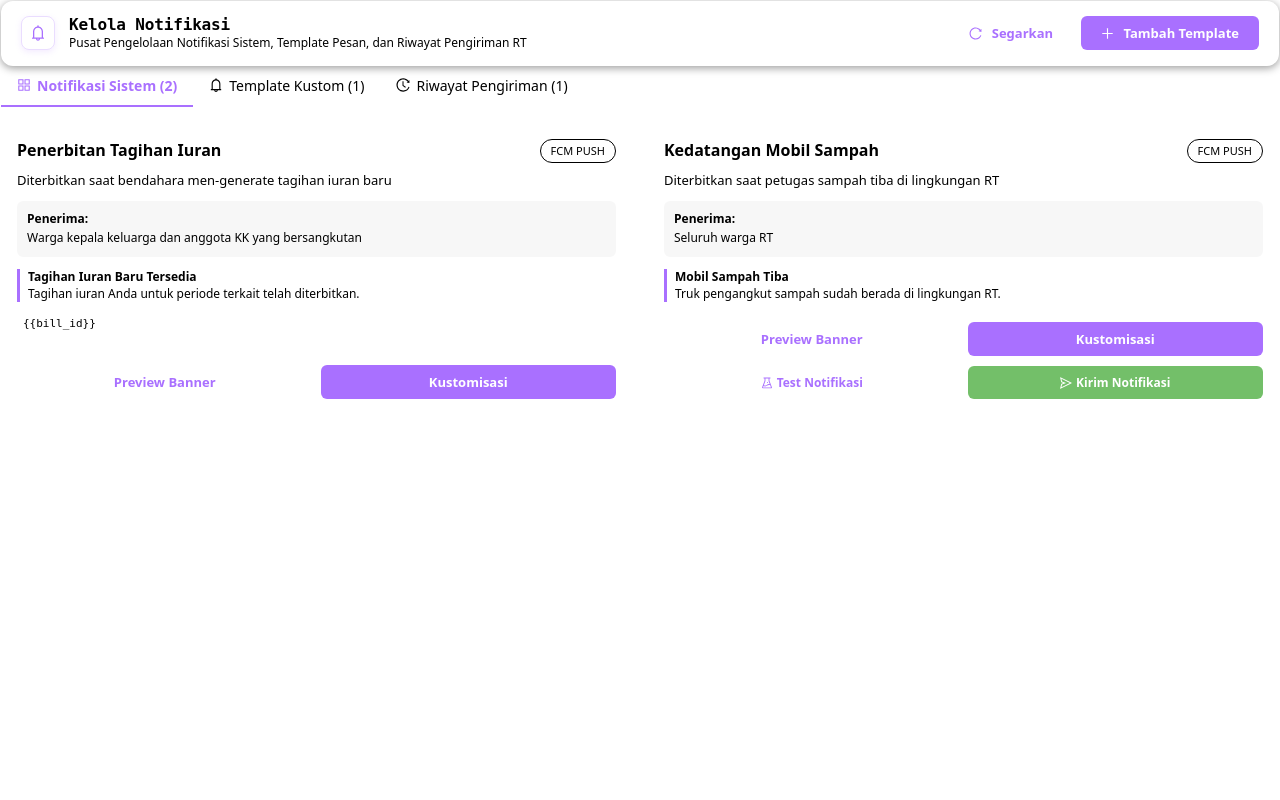
it: NotificationScreen › opens preview banner popup
Check: the text "Penerbitan Tagihan Iuran" is shown, box [17, 139, 221, 161]
Click the button "Preview Banner" below "{{bill_id}}" at (165, 382), box [17, 366, 312, 400]
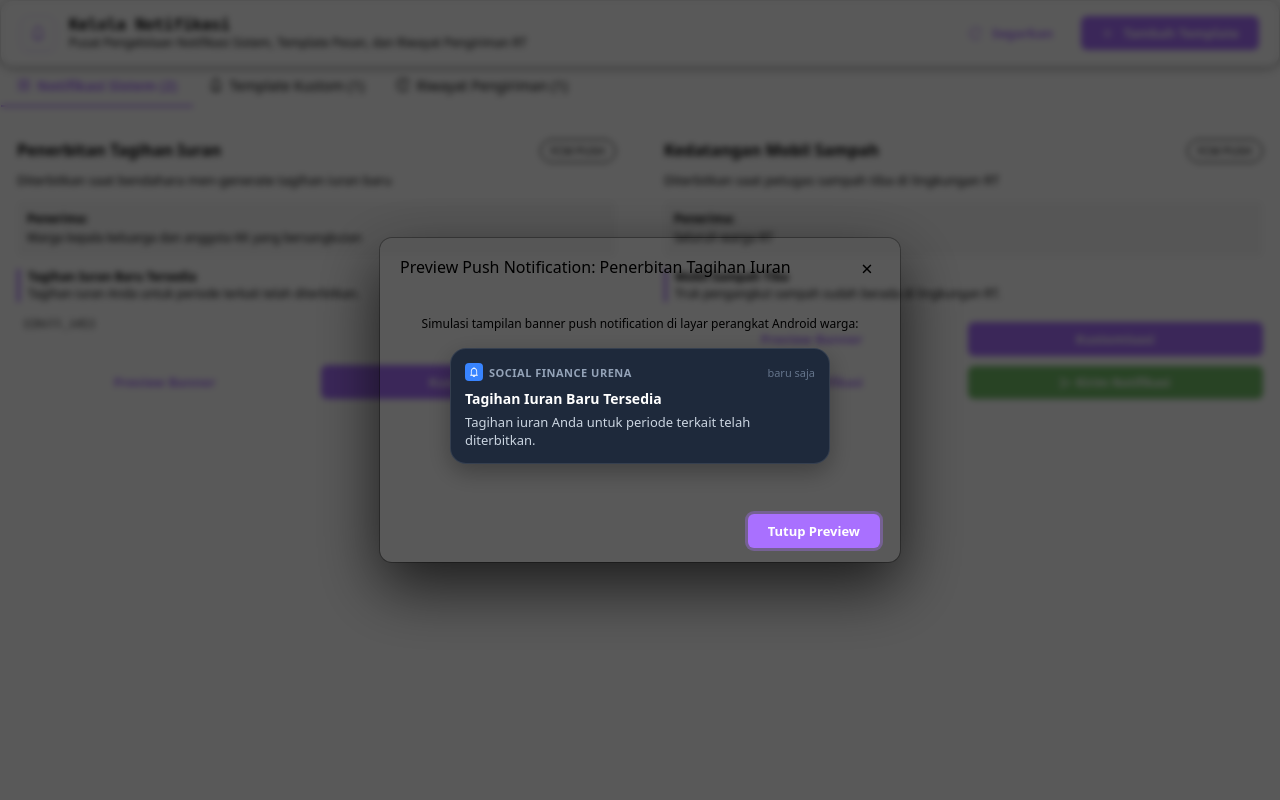
Check: the text "Tagihan Iuran Baru Tersedia" next to "Mobil Sampah Tiba" is shown, box [28, 268, 197, 285]
Check: the text "Preview Push Notification: Penerbitan Tagihan Iuran" is shown, box [400, 256, 790, 278]
